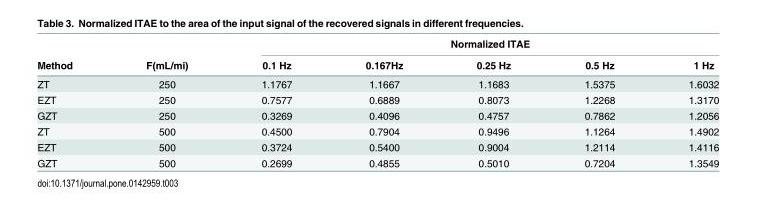table: (36, 36, 718, 168)
table column: (108, 36, 224, 168), (328, 36, 438, 168), (438, 36, 546, 168), (546, 36, 651, 168), (224, 36, 328, 168), (36, 36, 108, 168), (651, 36, 718, 168)
table column header: (36, 36, 718, 74)
table row: (36, 53, 718, 74), (36, 36, 718, 53), (36, 74, 718, 91), (36, 91, 718, 107), (36, 107, 718, 123), (36, 138, 718, 154), (36, 123, 718, 138), (36, 154, 718, 168)
table spanning cell: (224, 36, 718, 53), (108, 36, 224, 74), (36, 36, 108, 74)
